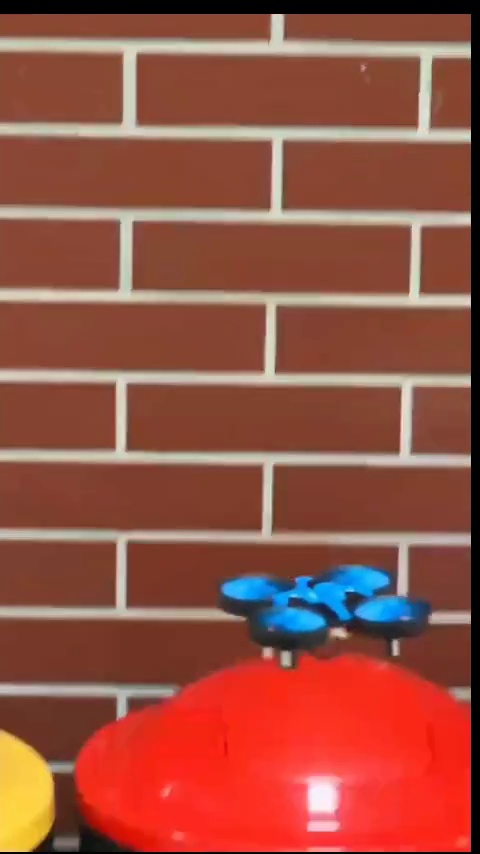drone: (221, 562, 426, 661)
